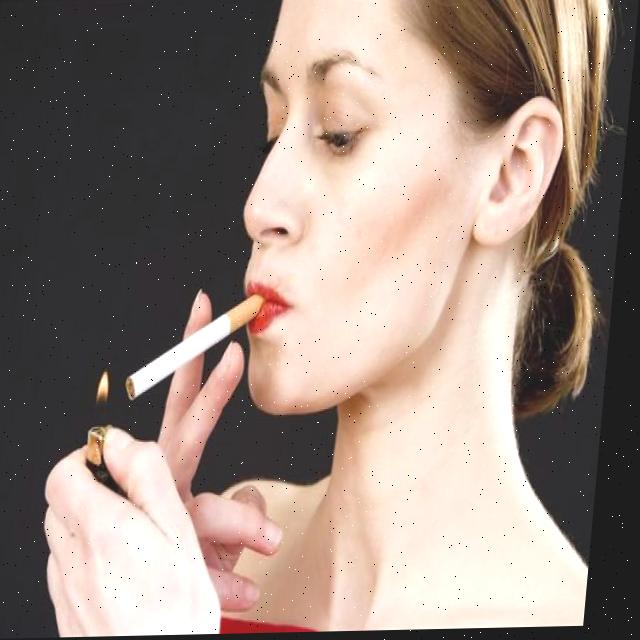cigarette: (131, 297, 271, 399)
